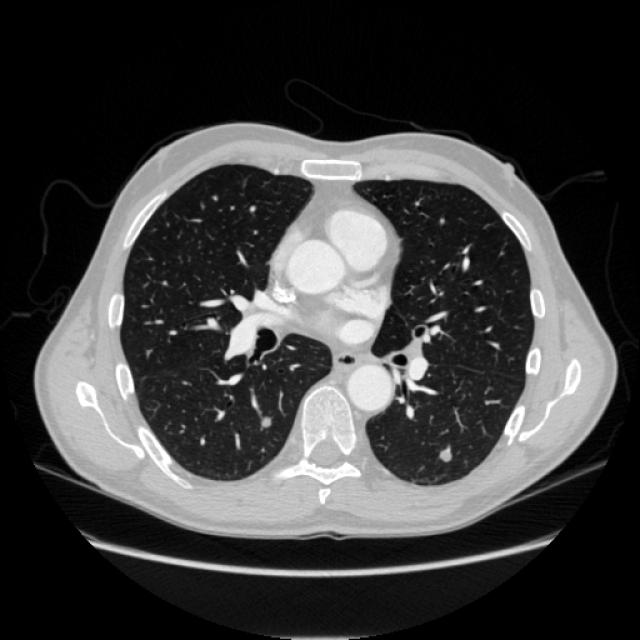nodule: (431, 441, 459, 469)
